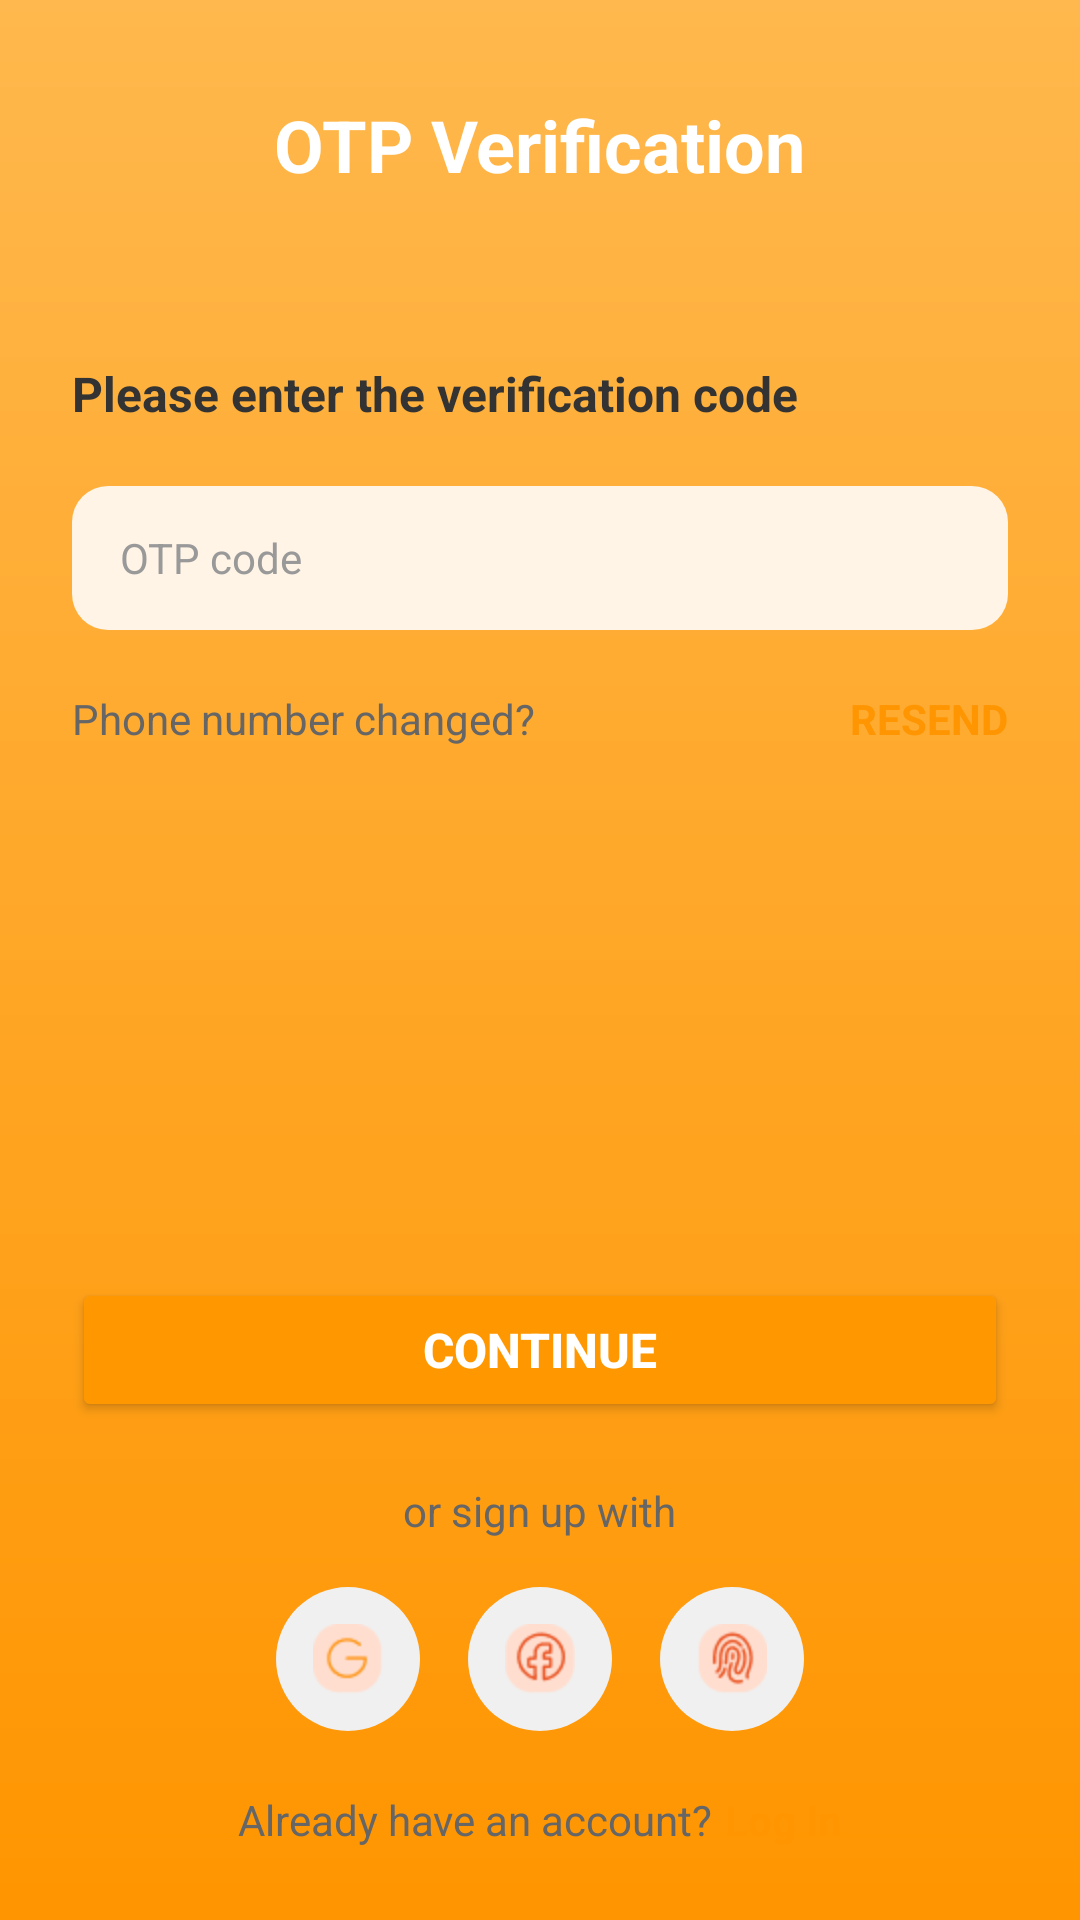

Named icons in this screenshot (1080x1920) and their centers, [x,y]:
fingerprint: [732,1659]
